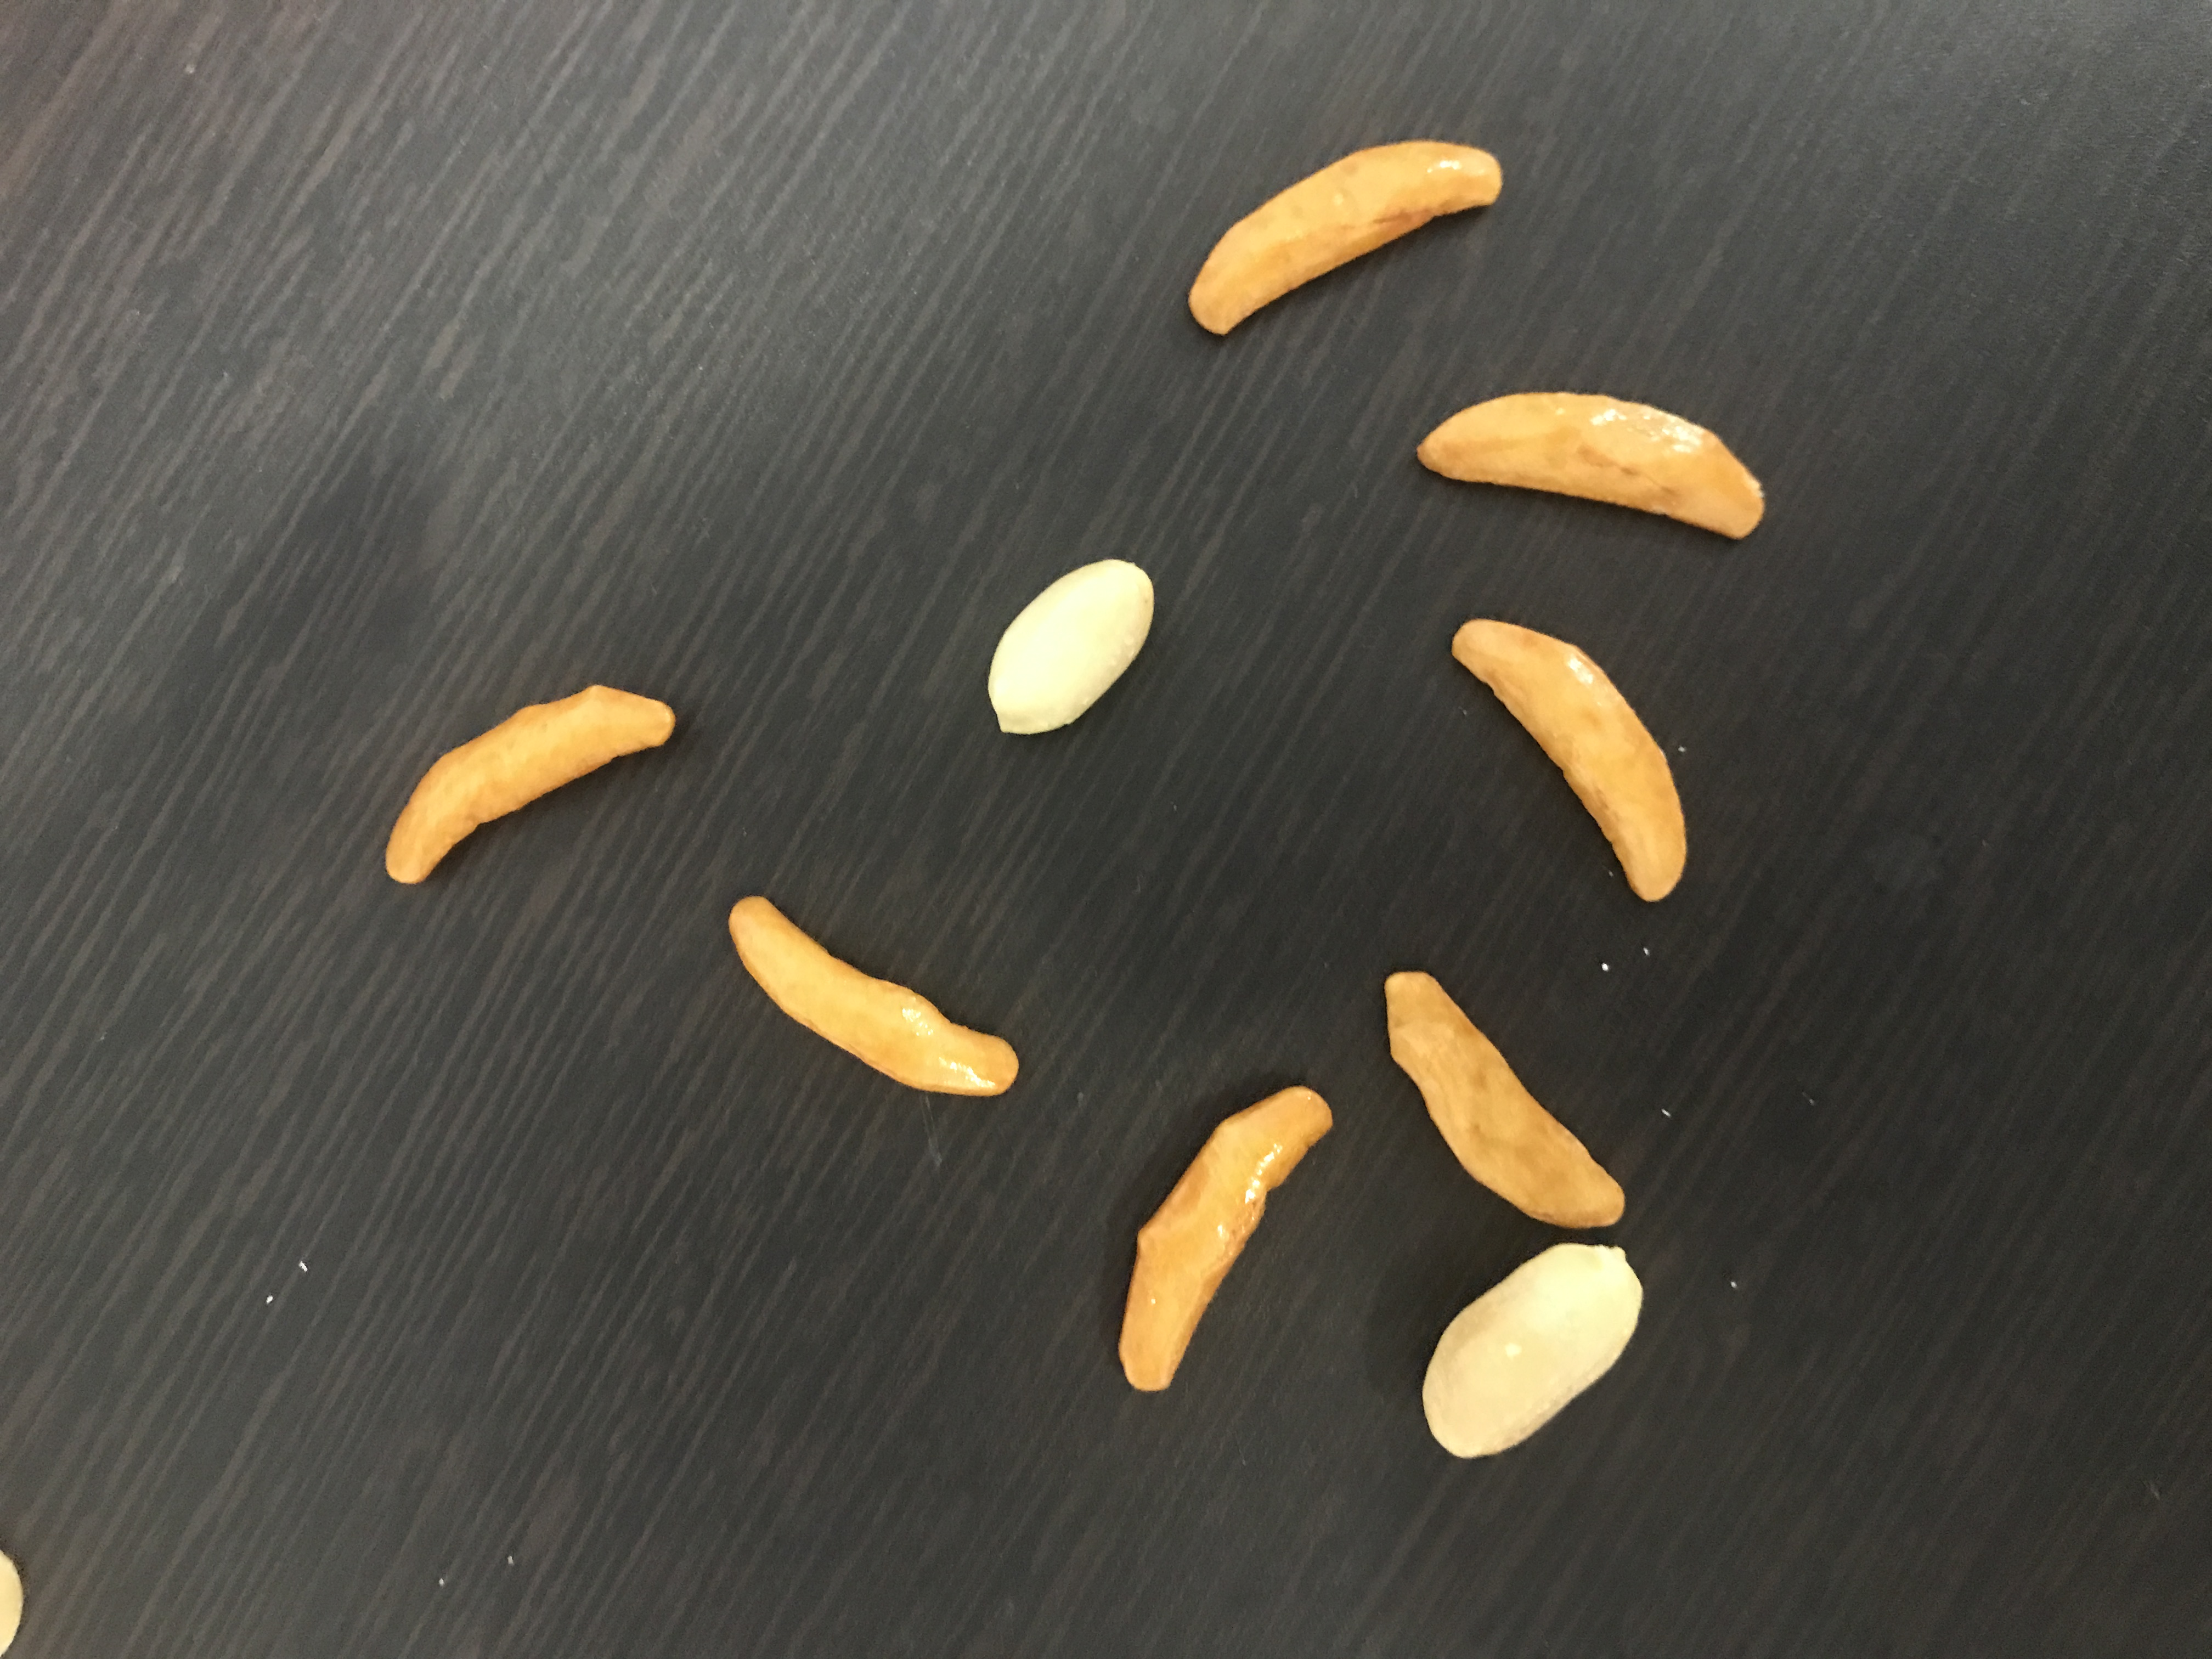peanut: (1414, 1237, 1653, 1466), (975, 547, 1167, 753)
